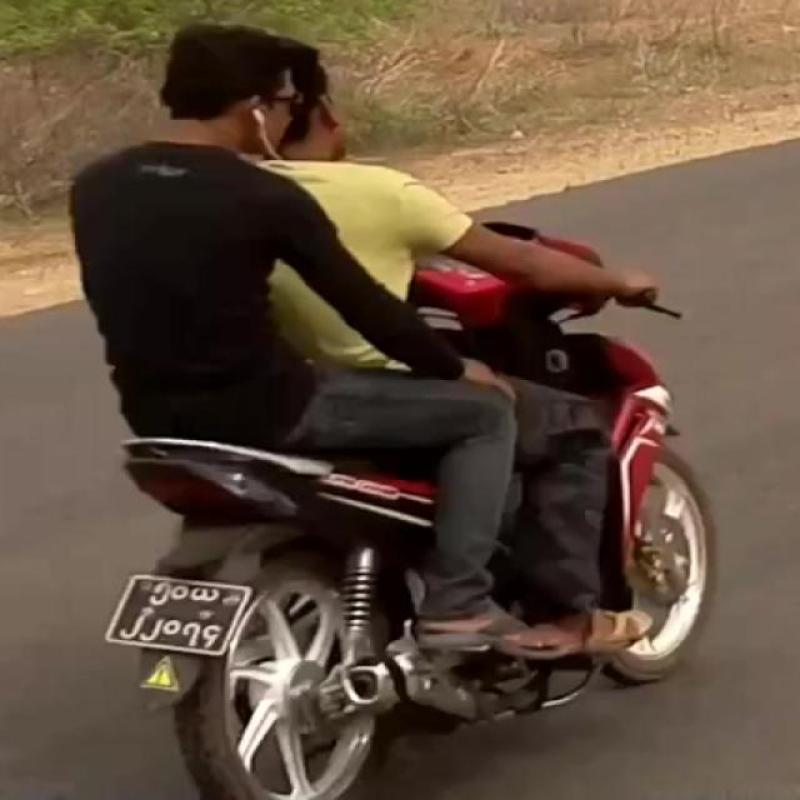nohelmet: (152, 0, 352, 175)
